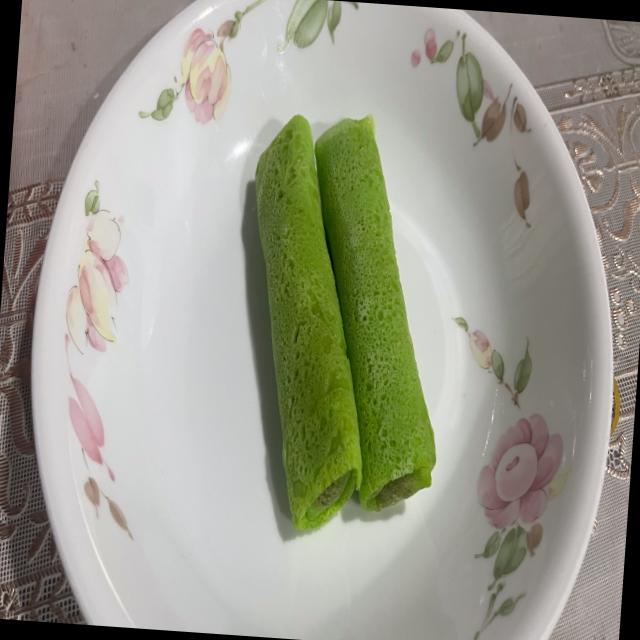Kuih-Ketayap: (314, 114, 436, 511), (255, 115, 362, 529)
